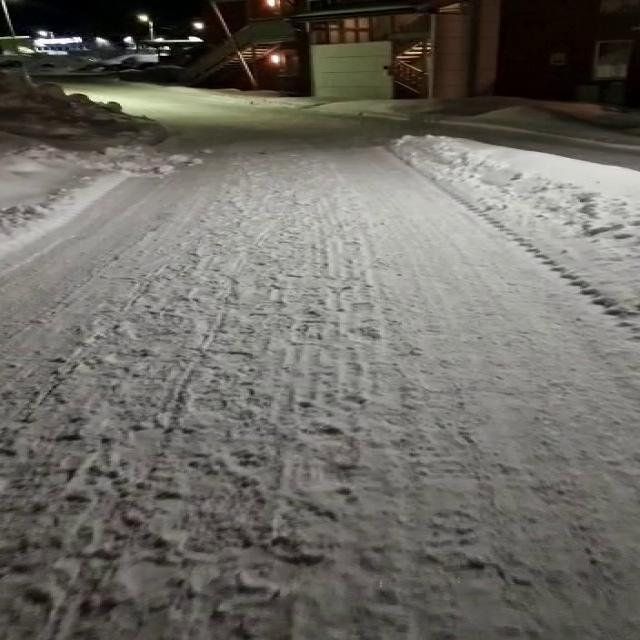path: (0, 78, 640, 640)
